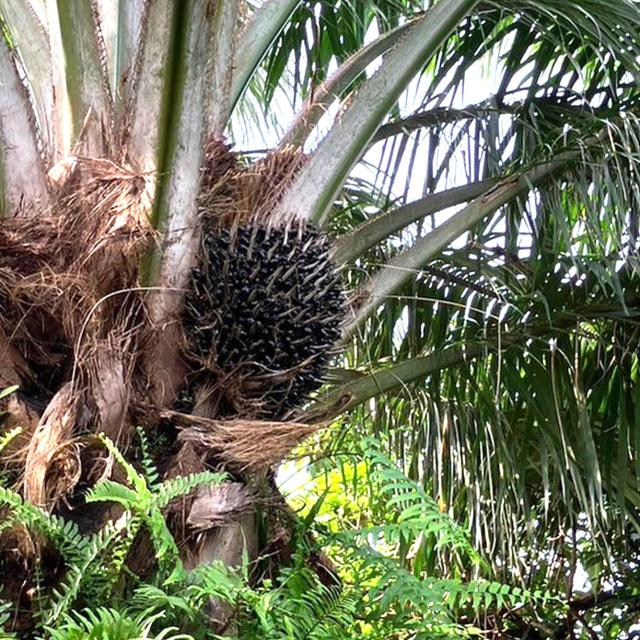unripe: (171, 204, 361, 428)
